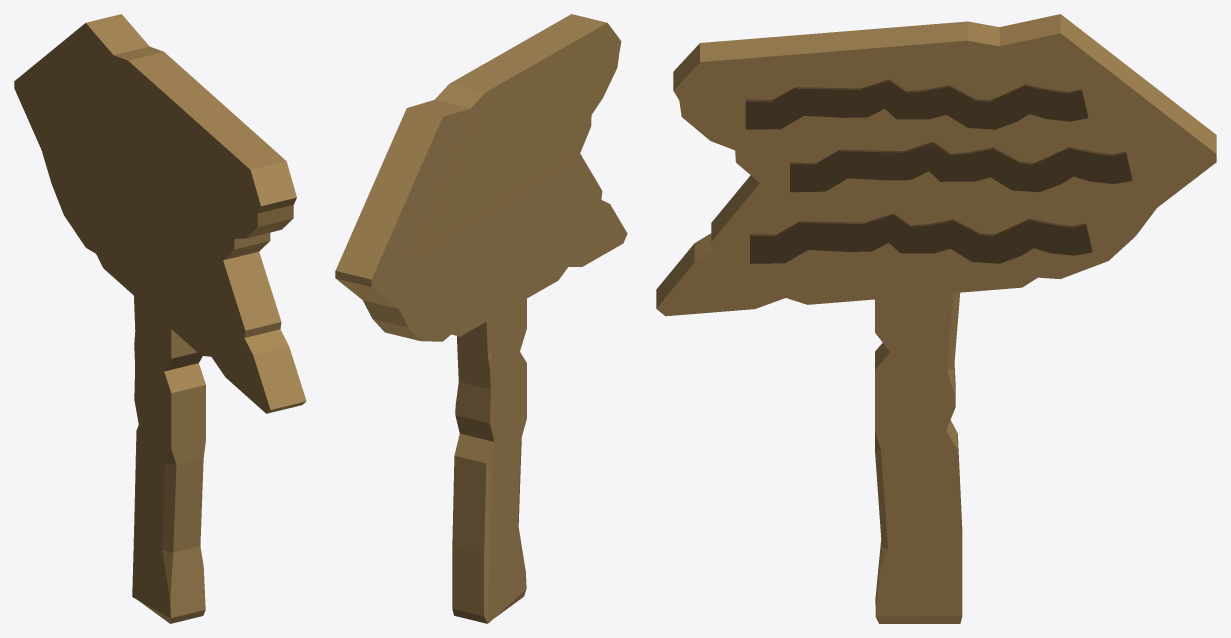
File: Cartel.fbx
The picture shows the model from 3 angles, left to right: view 1: azimuth 30°, elevation 25°; view 2: azimuth 150°, elevation 25°; view 3: azimuth 270°, elevation 25°; orthographic projection. The views are drawn at different scales.
Parts seen in each view (by area): view 1: Cube.001; view 2: Cube.001; view 3: Cube.001.
Part boxes in pixels (bbox=[...]): Cube.001: bbox=[14, 14, 306, 623]; Cube.001: bbox=[335, 14, 627, 623]; Cube.001: bbox=[656, 14, 1216, 623].
Size of the model in its own units: 23.94 by 298 by 256.
